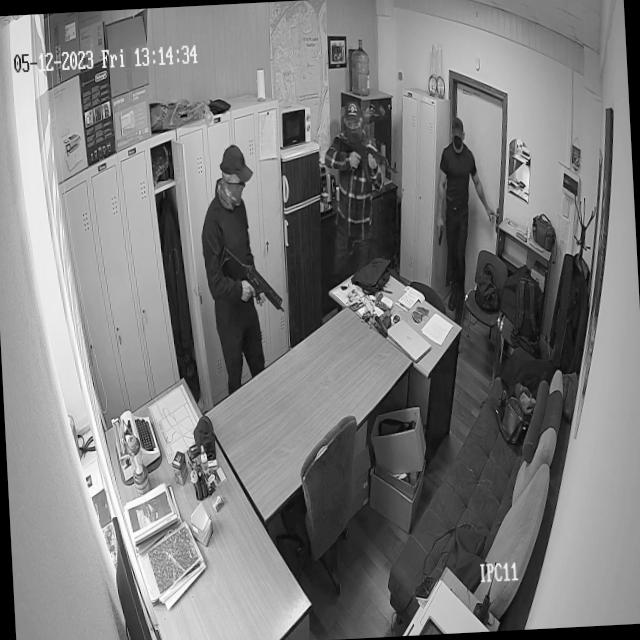gun: (218, 240, 286, 320), (339, 135, 400, 180), (436, 219, 446, 249)
person with a gun: (196, 146, 272, 371), (432, 119, 486, 318), (325, 106, 388, 264)
